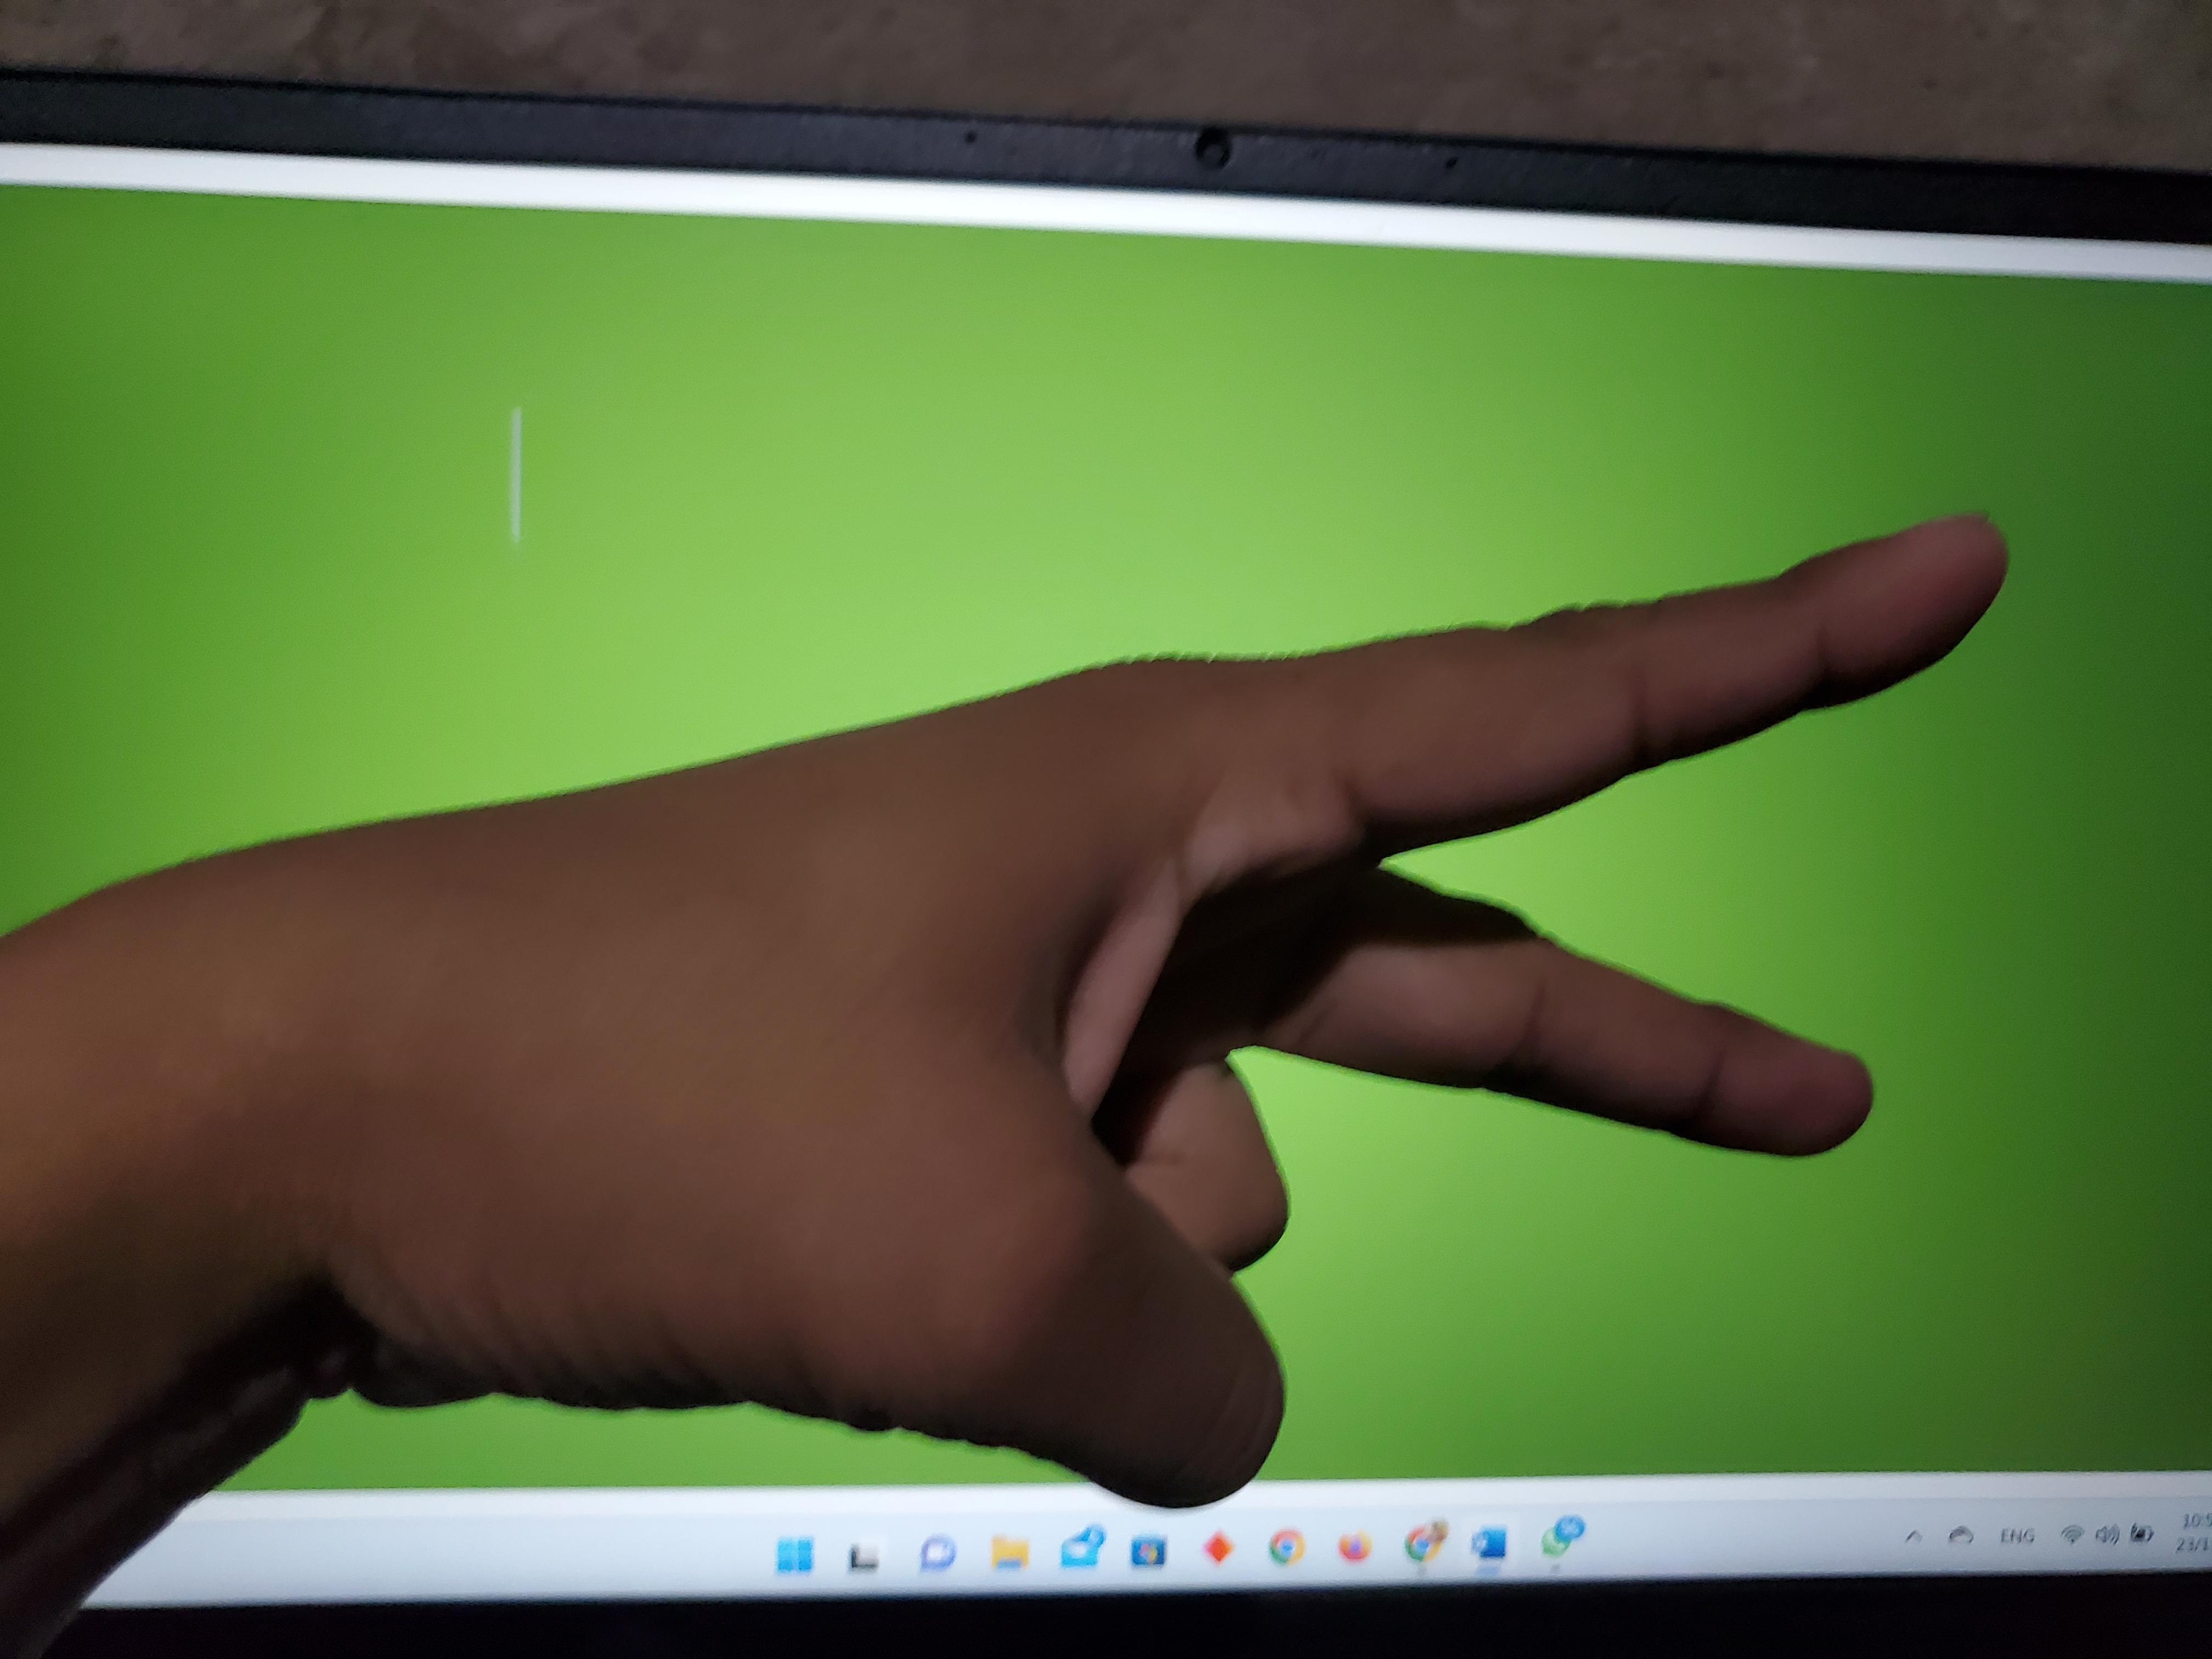Scissor: (23, 199, 2116, 1535)
